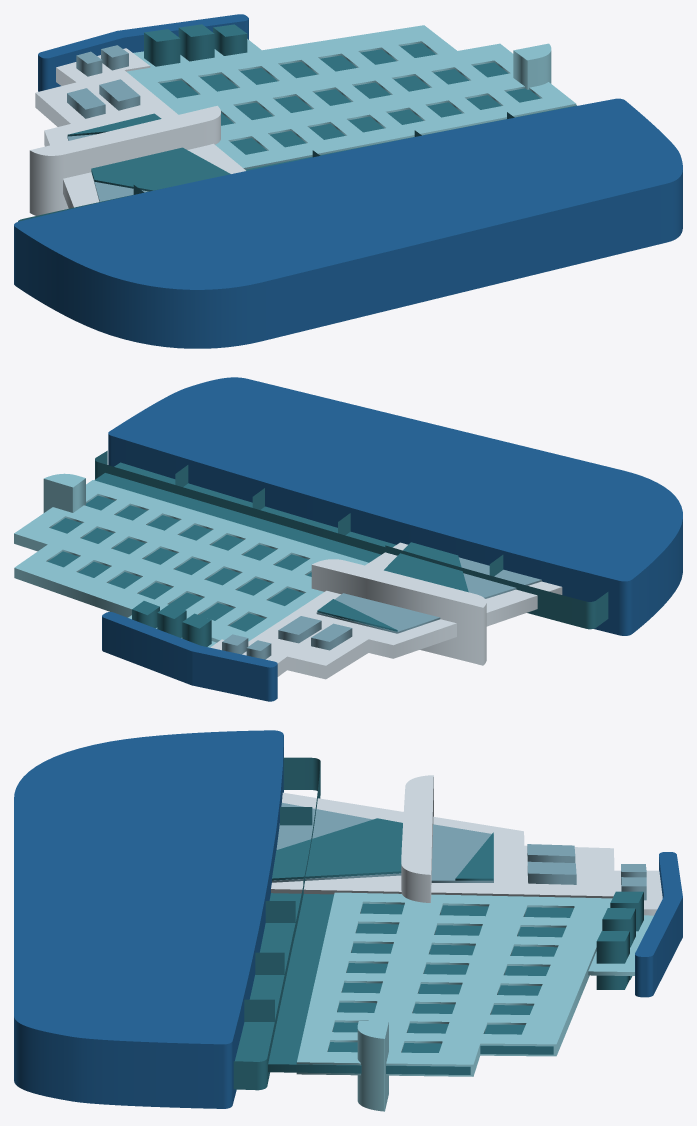
The model's file is emoji_u26f4.glb.
3 renders of one model, top to bottom at view 1: azimuth 30°, elevation 25°; view 2: azimuth 150°, elevation 25°; view 3: azimuth 270°, elevation 25°, orthographic. The views are drawn at different scales.
Parts seen in each view (by area): view 1: emoji_u26f4; view 2: emoji_u26f4; view 3: emoji_u26f4.
Boxes of the visible parts, bbox=[...] form: emoji_u26f4: bbox=[14, 14, 682, 348]; emoji_u26f4: bbox=[14, 377, 682, 701]; emoji_u26f4: bbox=[14, 730, 682, 1111].
Size of the model in its own units: 0.0334 by 0.0036 by 0.03.
